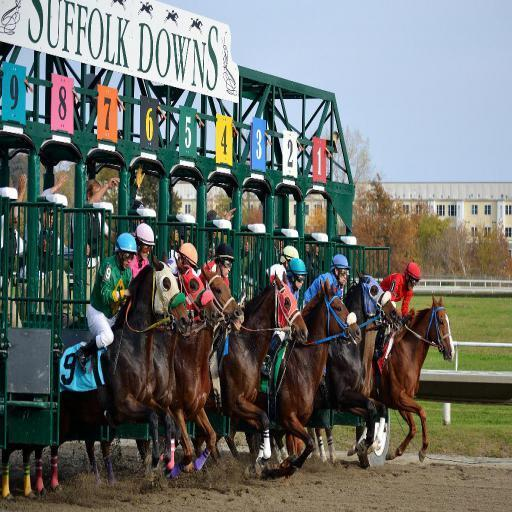horse: (1, 246, 456, 502)
